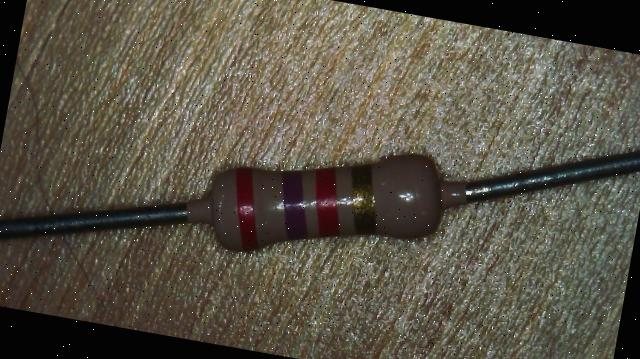gold: (342, 161, 386, 235)
red: (224, 165, 273, 252), (306, 164, 349, 238)
resistor: (186, 106, 468, 274)
violet: (272, 168, 318, 242)
